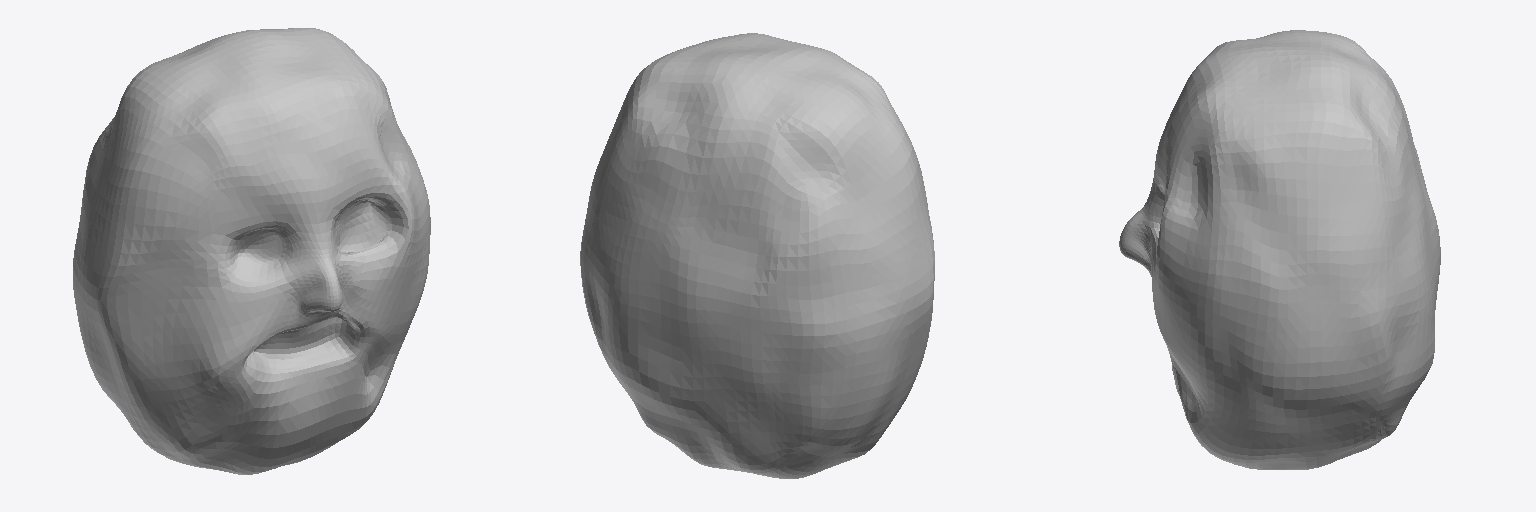
The model's file is galva.obj.
3 renders of one model, left to right at view 1: azimuth 30°, elevation 25°; view 2: azimuth 150°, elevation 25°; view 3: azimuth 270°, elevation 25°, orthographic.
Visible parts, largest first — view 1: Empty_Mesh; view 2: Empty_Mesh; view 3: Empty_Mesh.
Part boxes in pixels (x1,y1,x2,y2): Empty_Mesh: (73, 28, 430, 474); Empty_Mesh: (580, 33, 934, 478); Empty_Mesh: (1119, 30, 1440, 469).
Bounding box in the file's own units: 0.1942 × 0.2353 × 0.1686.